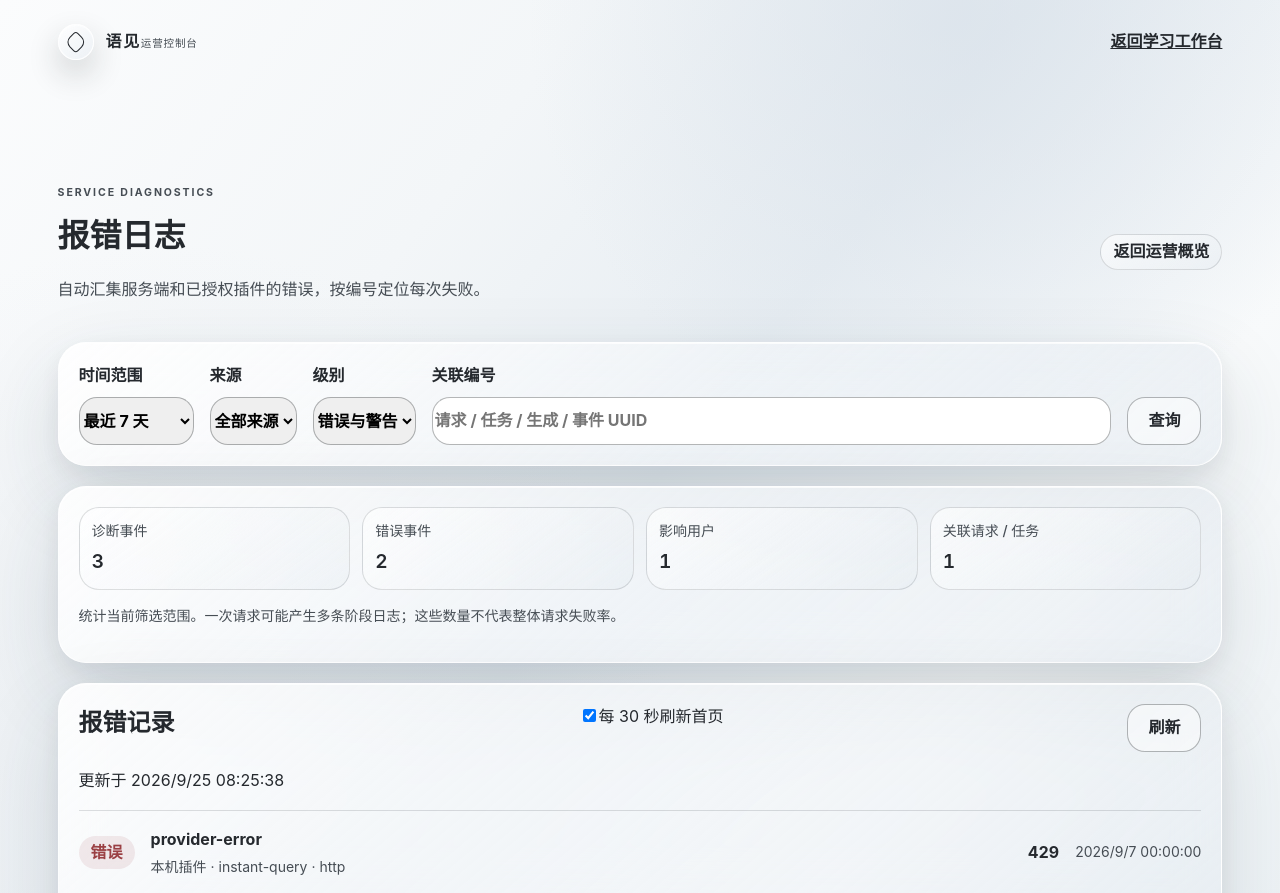
it: removes already displayed logs after forbidden
Click the button "刷新" at point(1164, 728), box [1127, 704, 1201, 752]
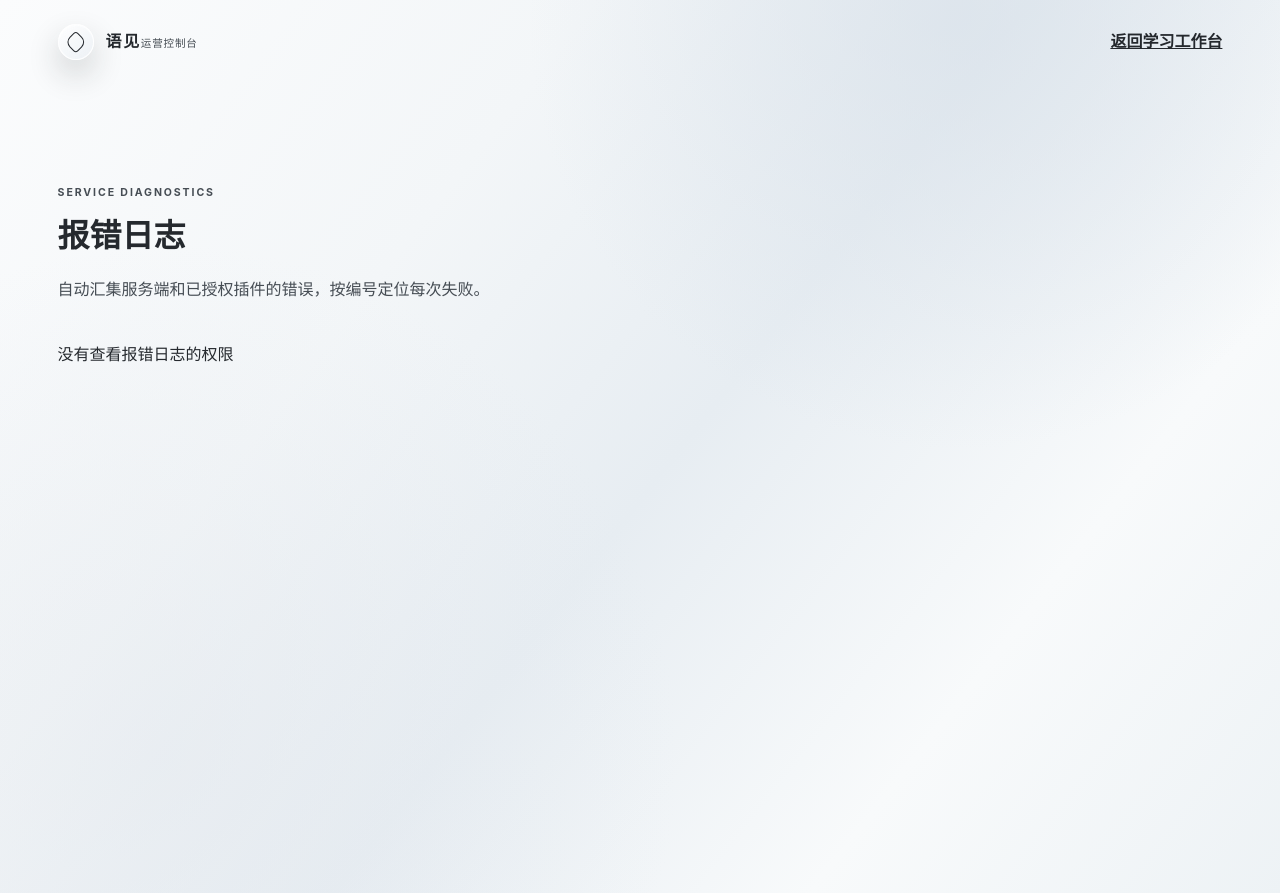
expect the text "没有查看报错日志的权限" is shown: met, box [58, 344, 234, 364]
expect the text "provider-error" is gone: met
